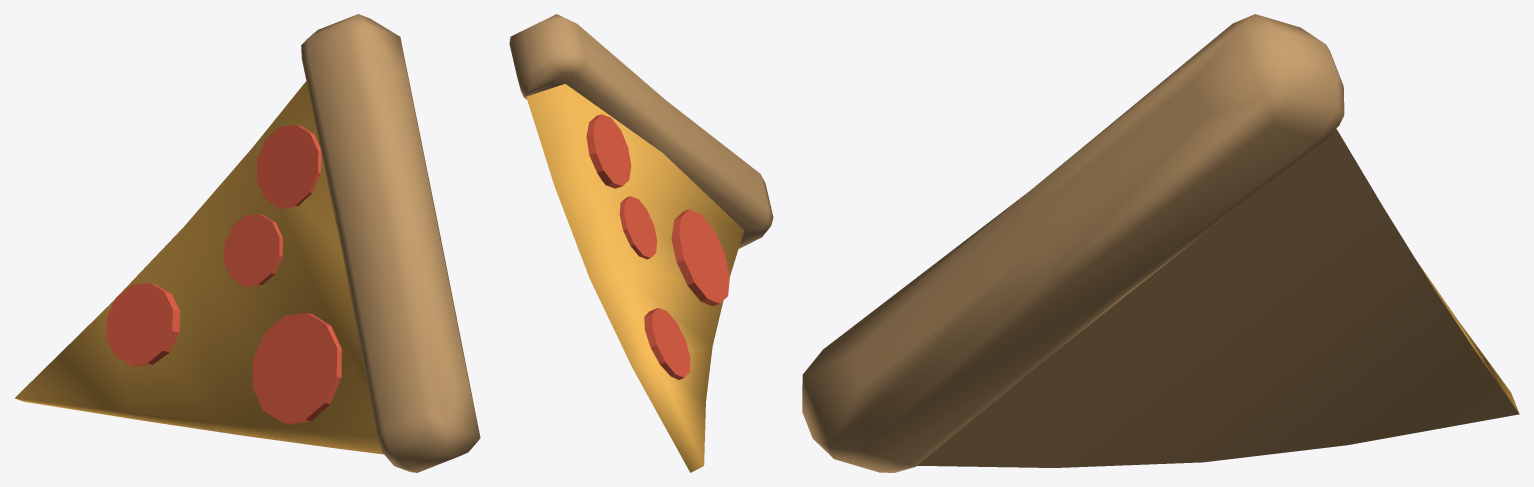
File: Good Food 5.fbx
The picture shows the model from 3 angles, left to right: view 1: azimuth 30°, elevation 25°; view 2: azimuth 150°, elevation 25°; view 3: azimuth 270°, elevation 25°; orthographic projection. The views are drawn at different scales.
Parts seen in each view (by area): view 1: Good Food_005; view 2: Good Food_005; view 3: Good Food_005.
Boxes of the visible parts, left/top/right/bottom form: Good Food_005: left=15, top=14, right=480, bottom=472; Good Food_005: left=509, top=14, right=773, bottom=472; Good Food_005: left=802, top=14, right=1519, bottom=472.
Bounding box in the file's own units: 21.03 × 25.87 × 29.74.
